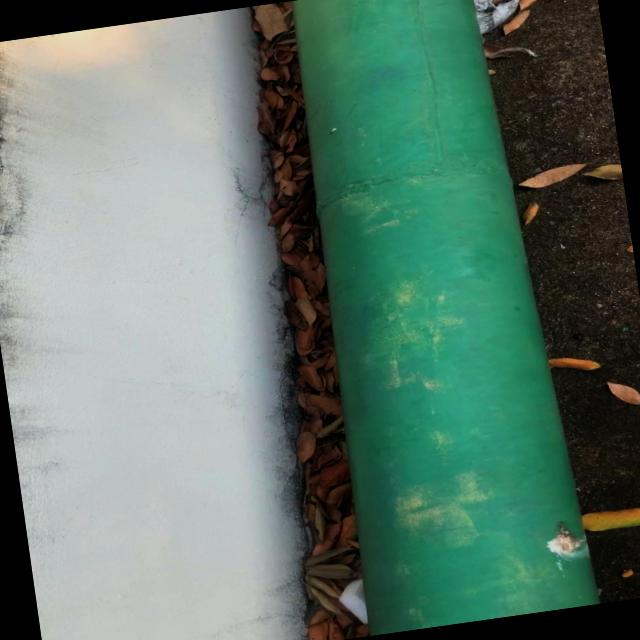gas: (275, 0, 607, 637)
